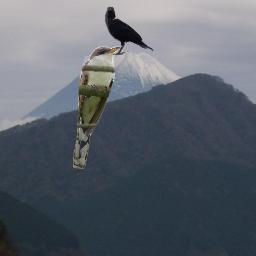Crow: (104, 6, 154, 55)
Cuckoo: (73, 46, 123, 169)
